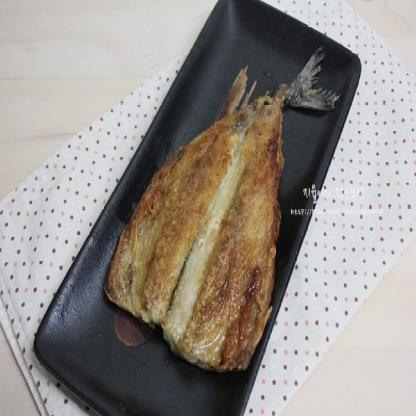Peixe: (100, 52, 347, 374)
